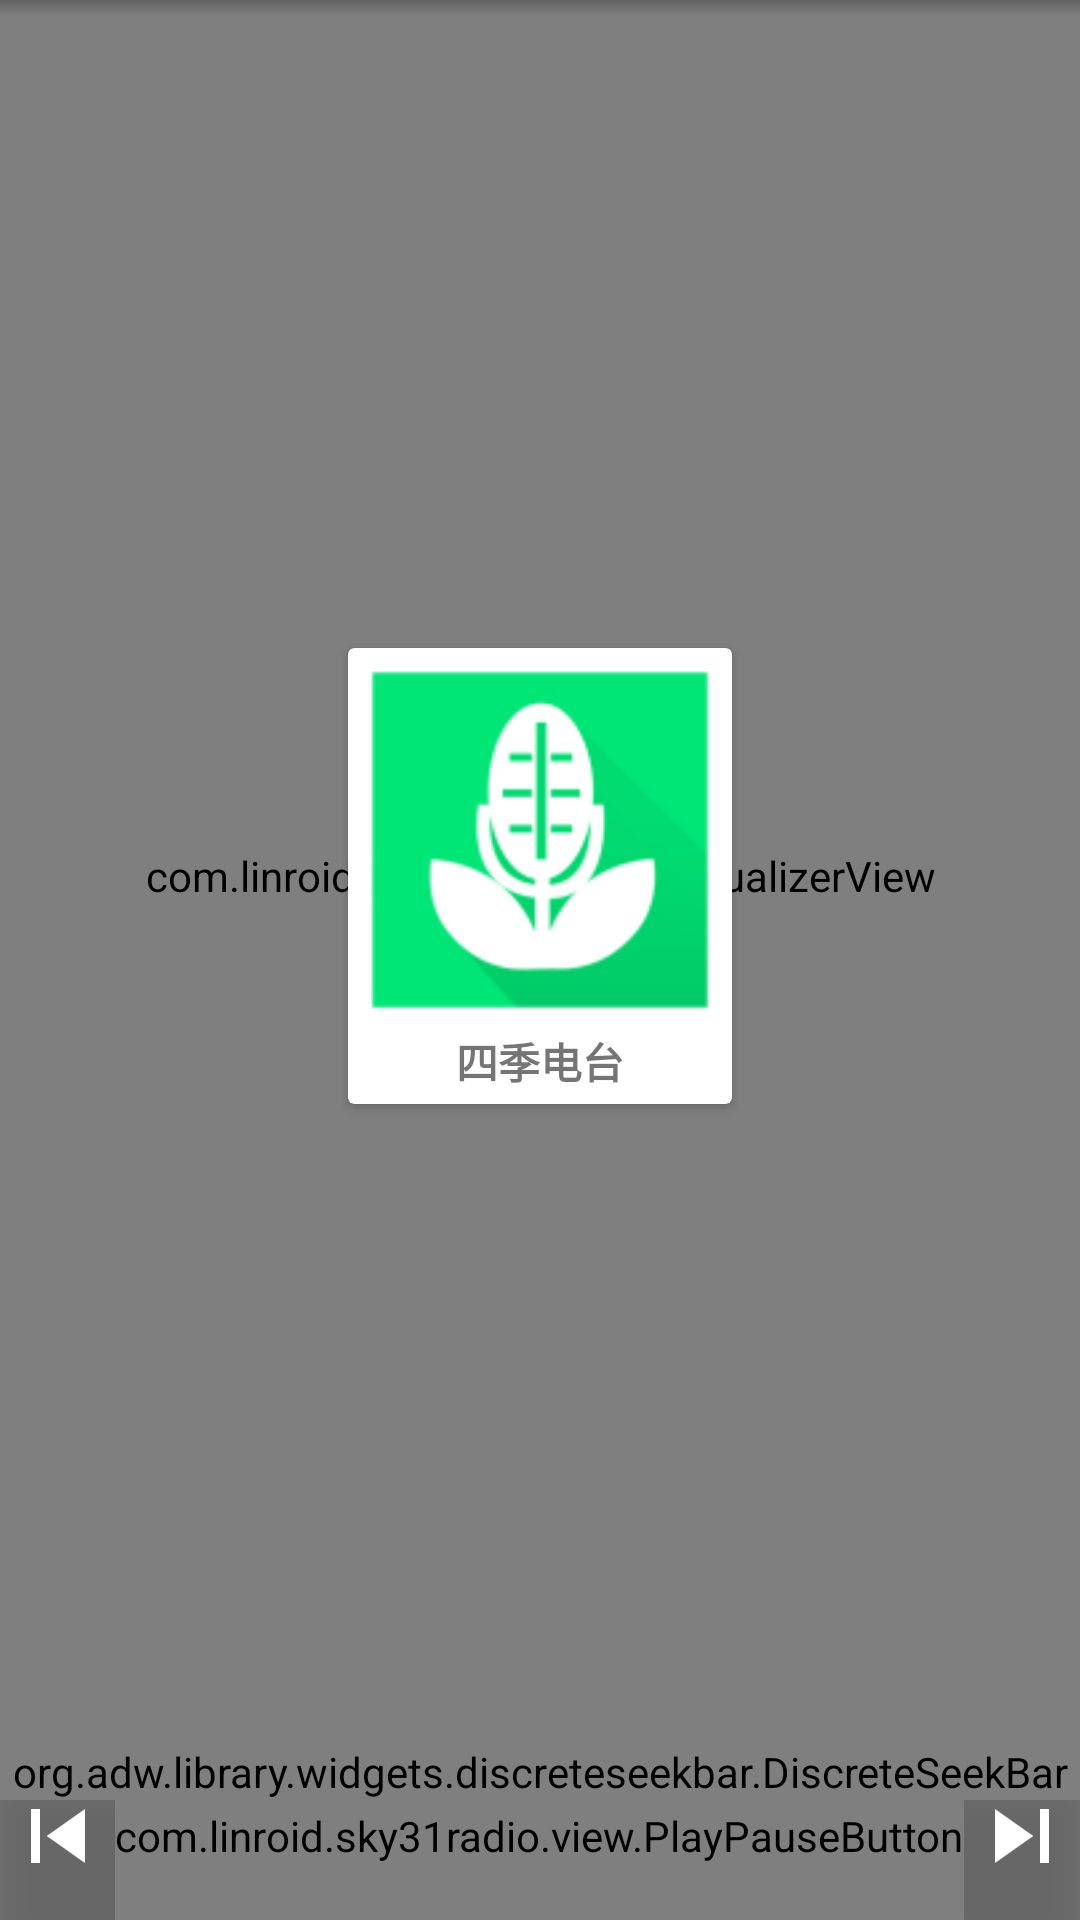

Named icons in this screenshot (1080 × 1920) and their bounding boxes, (x1, y1, x2, y2):
skip next: (964, 1756, 1080, 1920)
skip previous: (0, 1765, 115, 1920)
